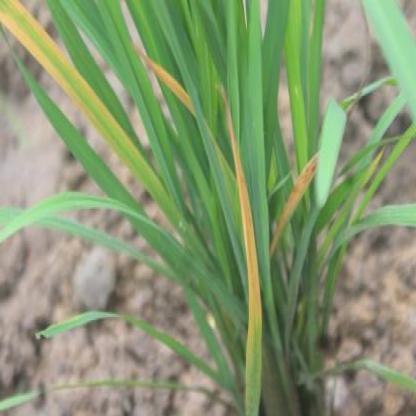Tungro: (216, 111, 268, 402)
